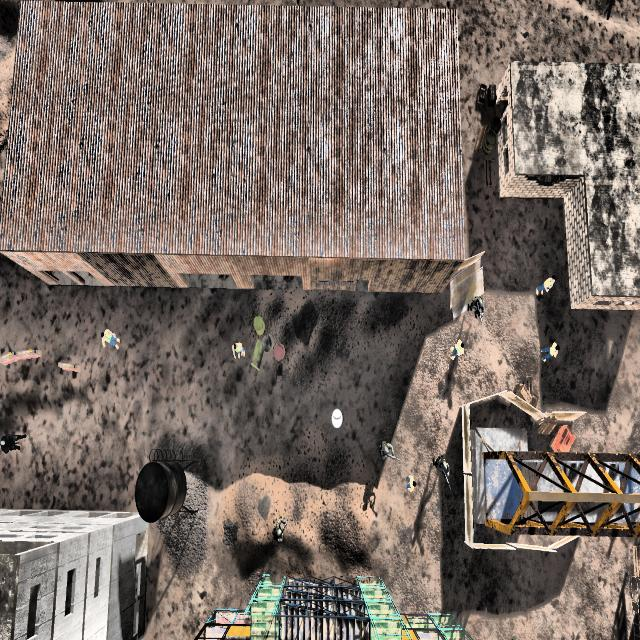bad: (0, 420, 28, 465), (375, 430, 397, 471), (432, 448, 452, 491), (468, 292, 489, 330), (270, 516, 287, 550)
good: (530, 264, 556, 307), (537, 331, 563, 373), (96, 323, 123, 358), (444, 337, 469, 366), (224, 336, 248, 366), (402, 470, 418, 499)
